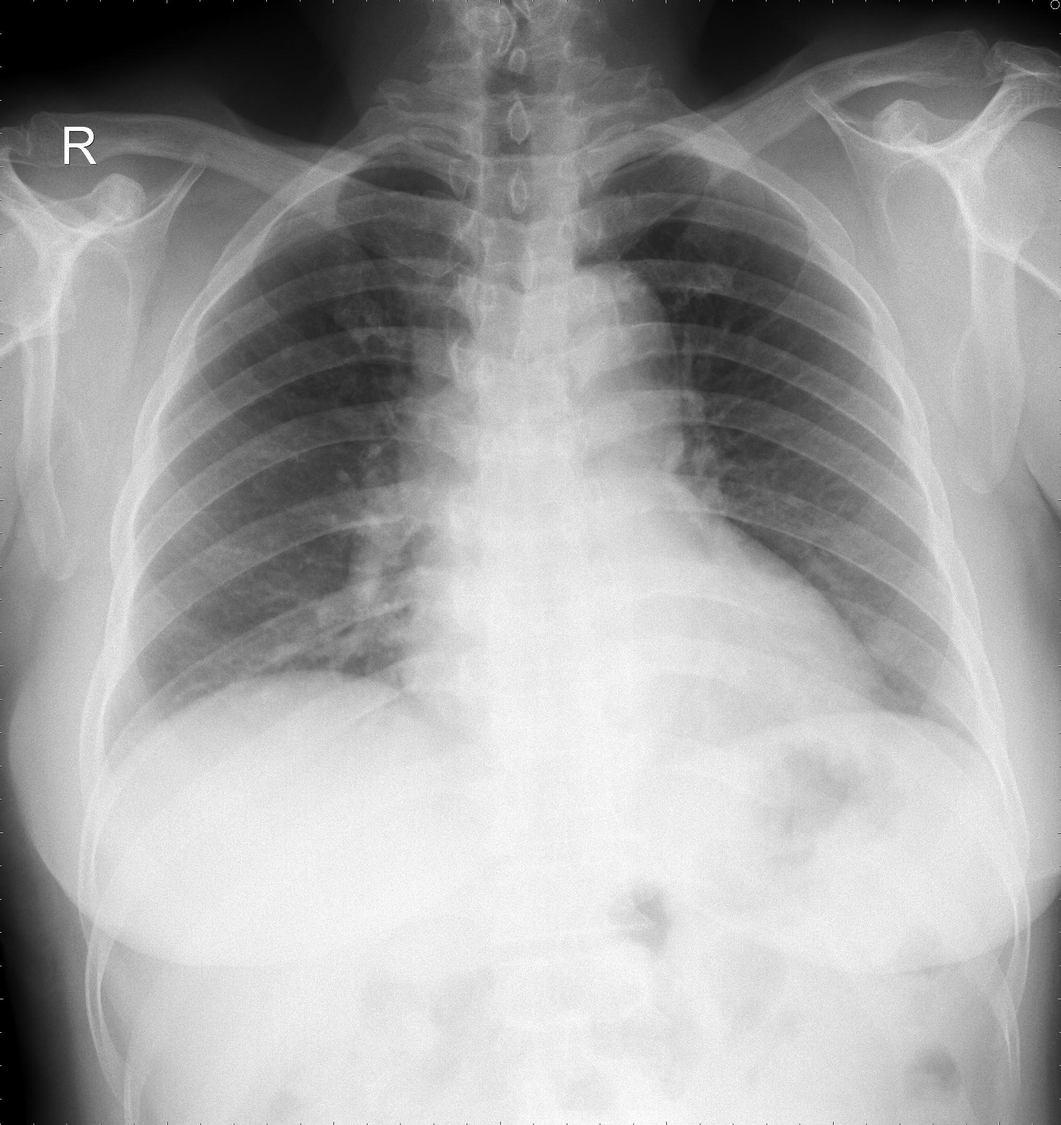Aortic enlargement: (517, 260, 684, 434)
Cardiomegaly: (395, 608, 891, 764)
